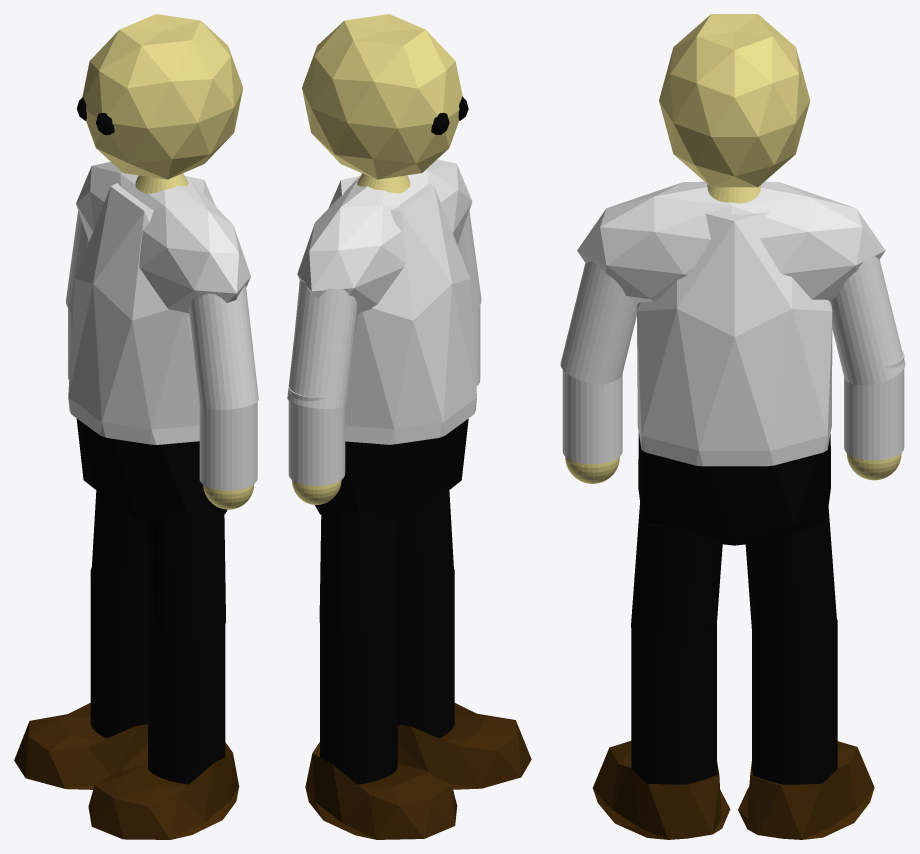
File: playerER(newest).fbx
The picture shows the model from 3 angles, left to right: view 1: azimuth 30°, elevation 25°; view 2: azimuth 150°, elevation 25°; view 3: azimuth 270°, elevation 25°; orthographic projection. The views are drawn at different scales.
Visible parts, largest first — view 1: Icosphere, Icosphere.001, Icosphere.004, Cylinder.003, Icosphere.005, Cylinder.007, Icosphere.009, Cylinder.006, Icosphere.006, Cylinder, Cylinder.004, Cylinder.002 (+3 smaller); view 2: Icosphere, Icosphere.001, Icosphere.004, Cylinder.006, Icosphere.006, Icosphere.009, Cylinder.002, Cylinder.003, Icosphere.005, Cylinder.001, Cylinder.005, Cylinder.007 (+4 smaller); view 3: Icosphere, Icosphere.004, Icosphere.001, Icosphere.009, Cylinder.006, Cylinder.003, Cylinder.007, Cylinder.002, Icosphere.005, Icosphere.006, Cylinder.001, Cylinder (+5 smaller).
Boxes of the visible parts, x1,y1,x2,y2 form: Icosphere: [68, 175, 215, 444]; Icosphere.001: [82, 14, 243, 179]; Icosphere.004: [76, 161, 250, 317]; Cylinder.003: [148, 610, 225, 784]; Icosphere.005: [88, 742, 239, 839]; Cylinder.007: [147, 508, 225, 635]; Icosphere.009: [76, 418, 227, 520]; Cylinder.006: [90, 568, 148, 738]; Icosphere.006: [14, 703, 147, 789]; Cylinder: [189, 285, 258, 410]; Cylinder.004: [199, 402, 257, 490]; Cylinder.002: [91, 490, 148, 595]; Icosphere: [294, 175, 476, 444]; Icosphere.001: [302, 14, 462, 179]; Icosphere.004: [297, 159, 472, 314]; Cylinder.006: [320, 612, 397, 784]; Icosphere.006: [305, 742, 457, 839]; Icosphere.009: [315, 418, 468, 520]; Cylinder.002: [319, 513, 398, 630]; Cylinder.003: [397, 569, 454, 738]; Icosphere.005: [397, 703, 531, 789]; Cylinder.001: [287, 279, 357, 409]; Cylinder.005: [288, 384, 345, 485]; Cylinder.007: [397, 490, 453, 588]; Icosphere: [637, 181, 832, 466]; Icosphere.004: [577, 182, 885, 303]; Icosphere.001: [659, 14, 810, 187]; Icosphere.009: [638, 433, 830, 545]; Cylinder.006: [752, 619, 837, 784]; Cylinder.003: [631, 623, 716, 784]; Cylinder.007: [631, 501, 722, 646]; Cylinder.002: [745, 507, 836, 646]; Icosphere.005: [592, 741, 730, 839]; Icosphere.006: [738, 741, 874, 839]; Cylinder.001: [830, 255, 905, 385]; Cylinder: [560, 261, 637, 384].
Bounding box in the file's own units: 80.3 × 319 × 126.
